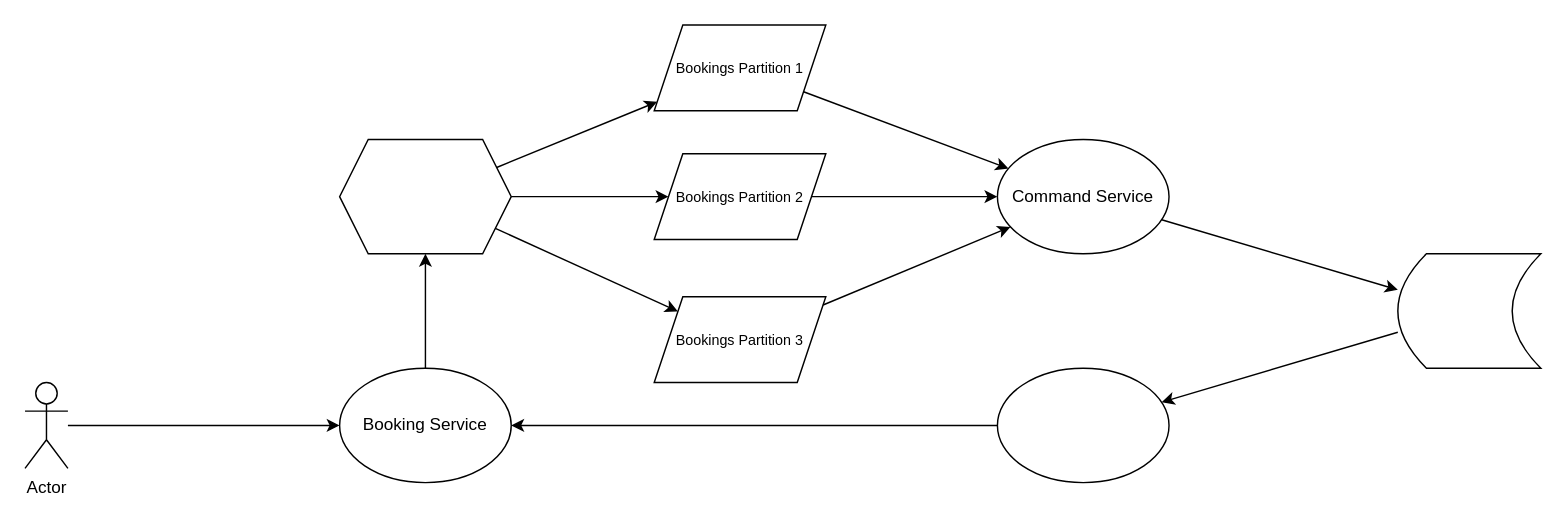
The diagram is 1566 pixels wide and 523 high, and some of its shapes have lost their labels. Each missing label, with the centre of its shape:
Bookings Topic: (x=424, y=196)
MongoDB: (x=1468, y=310)
Query Service: (x=1082, y=425)
